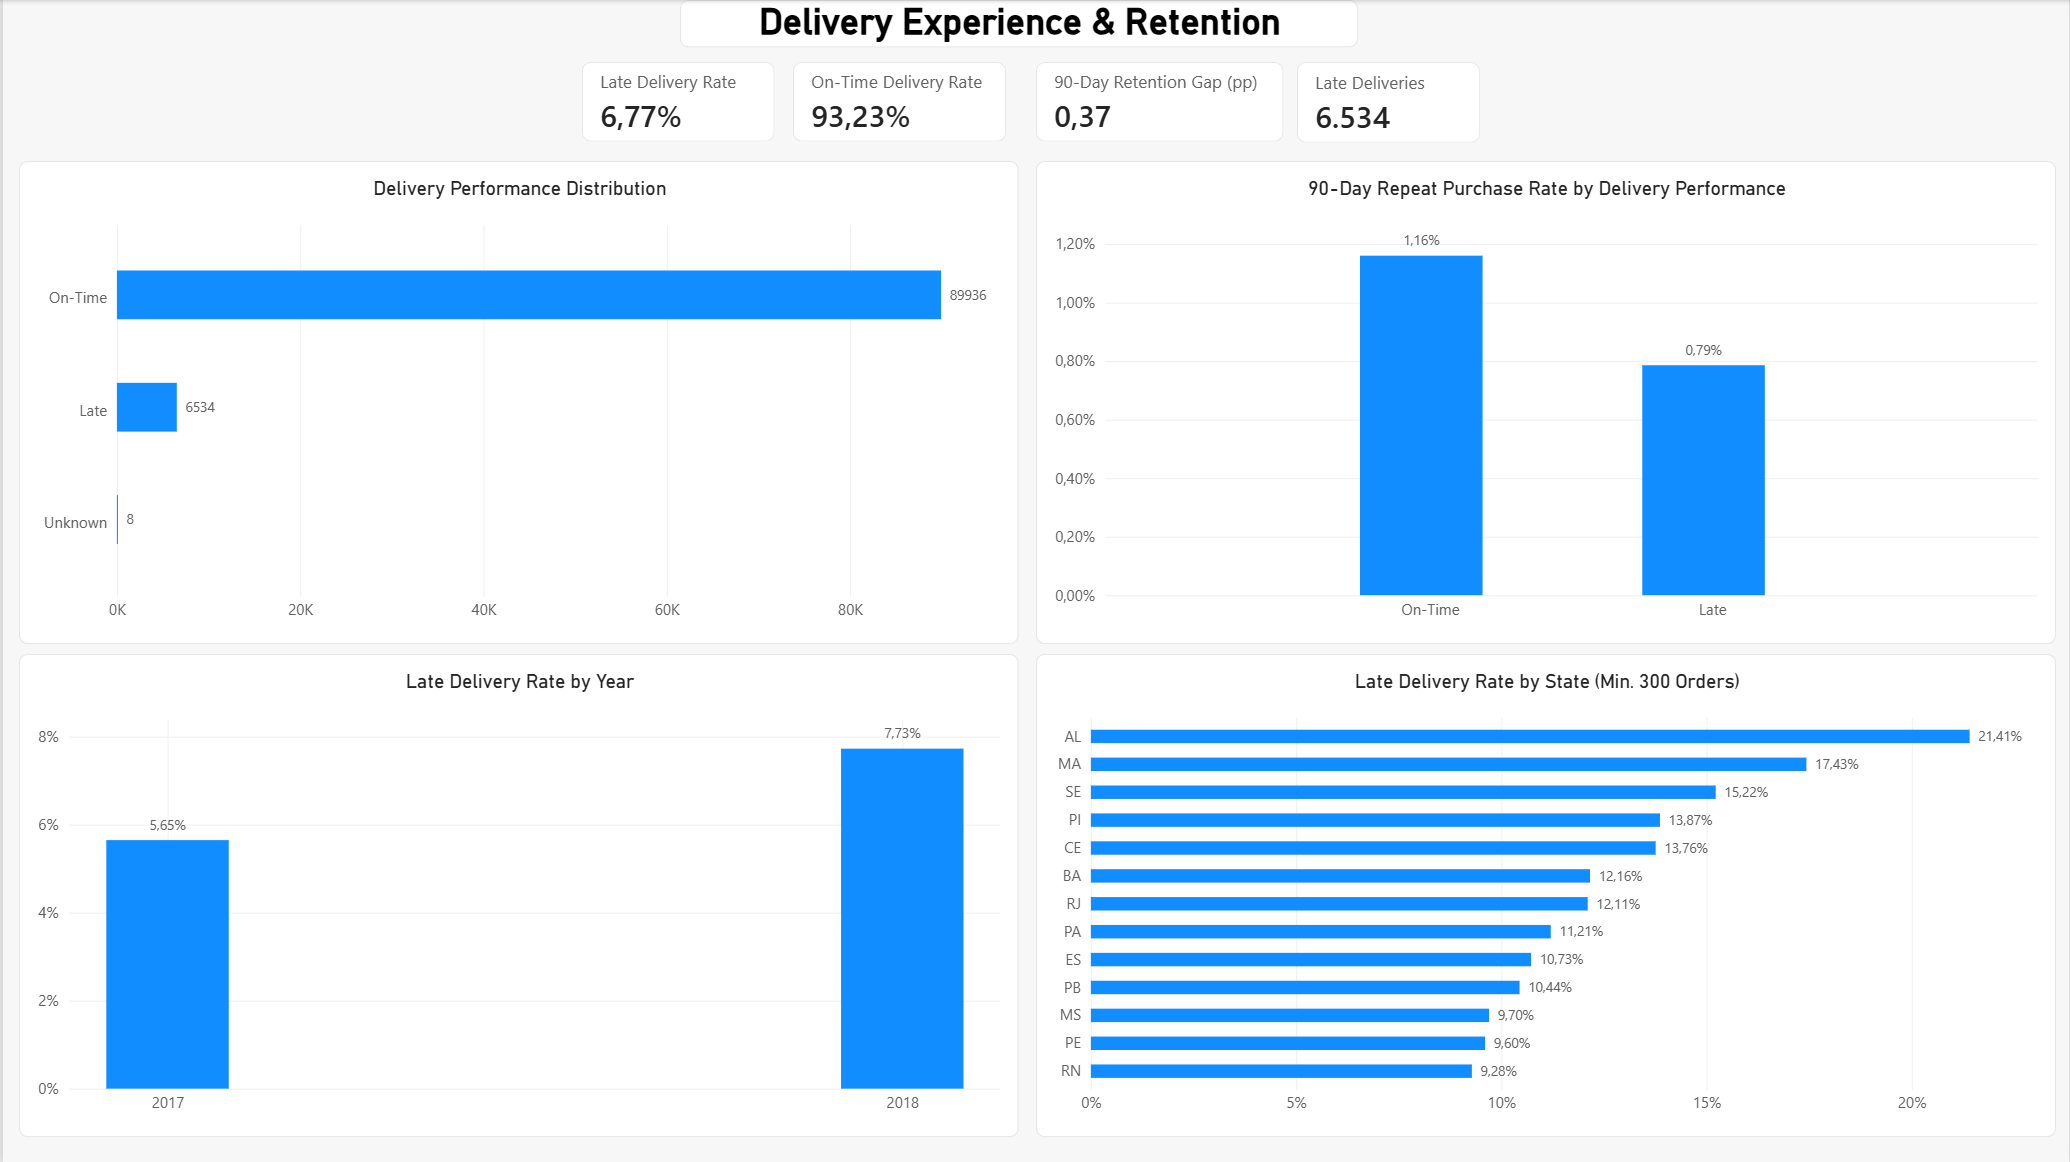

Layout of this report page (visuals, bound fields, positions):
{"tool":"powerbi","page":{"name":"Delivery Experience & Retention","canvas":[1920,1080],"ordinal":3},"visuals":[{"type":"textbox","title":"Delivery Experience & Retention","box":[629.2,0,630.2,44.2],"z":0},{"type":"clusteredColumnChart","title":"90-Day Repeat Purchase Rate by Delivery Performance","fields":{"Category":["DeliveryRetention.delivery_performance"],"Y":["CustomerOrderDistribution.90-Day Repeat Rate"]},"box":[960,149.3,947.8,448.6],"z":1},{"type":"clusteredBarChart","title":"Delivery Performance Distribution","fields":{"Category":["FactOrders.delivery_performance"],"Y":["CountNonNull(FactOrders.order_id)"]},"box":[15.3,149.3,929,448.6],"z":2},{"type":"cardVisual","fields":{"Data":["CustomerOrderDistribution.Late Delivery Rate"]},"box":[538,58,179.9,74.6],"z":3},{"type":"cardVisual","fields":{"Data":["FactOrders.On-Time Delivery Rate"]},"box":[734.1,58,198.3,74.6],"z":4},{"type":"cardVisual","fields":{"Data":["DeliveryRetention.90-Day Retention Gap (pp)"]},"box":[960,58,230,74.6],"z":5},{"type":"cardVisual","fields":{"Data":["FactOrders.Late Deliveries"]},"box":[1203.1,58,171,75.3],"z":6},{"type":"clusteredColumnChart","title":"Late Delivery Rate by Year","fields":{"Category":["FactOrders.purchase_year"],"Y":["FactOrders.Late Delivery Rate"]},"box":[15,608,929,449],"z":7},{"type":"clusteredBarChart","title":"Late Delivery Rate by State (Min. 300 Orders)","fields":{"Category":["FactOrders.customer_state"],"Y":["FactOrders.Late Delivery Rate"]},"box":[960,608.3,947.7,448.8],"z":8}]}

Visuals, with their boxes in screenshot pixels (x1, y1, x2, y2), scaled from the page's 1920x1080 canvas onto the 2070x1162 screenshot:
"Delivery Experience & Retention" textbox: x1=678, y1=0, x2=1358, y2=48
"90-Day Repeat Purchase Rate by Delivery Performance" clusteredColumnChart: x1=1035, y1=161, x2=2057, y2=643
"Delivery Performance Distribution" clusteredBarChart: x1=16, y1=161, x2=1018, y2=643
cardVisual - CustomerOrderDistribution.Late Delivery Rate: x1=580, y1=62, x2=774, y2=143
cardVisual - FactOrders.On-Time Delivery Rate: x1=791, y1=62, x2=1005, y2=143
cardVisual - DeliveryRetention.90-Day Retention Gap (pp): x1=1035, y1=62, x2=1283, y2=143
cardVisual - FactOrders.Late Deliveries: x1=1297, y1=62, x2=1481, y2=143
"Late Delivery Rate by Year" clusteredColumnChart: x1=16, y1=654, x2=1018, y2=1137
"Late Delivery Rate by State (Min. 300 Orders)" clusteredBarChart: x1=1035, y1=654, x2=2057, y2=1137
